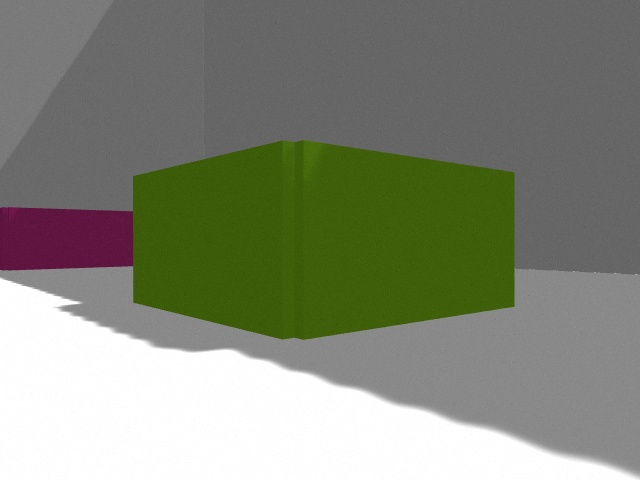green_drop_zone: (133, 140, 515, 340)
red_drop_zone: (0, 207, 133, 271)
